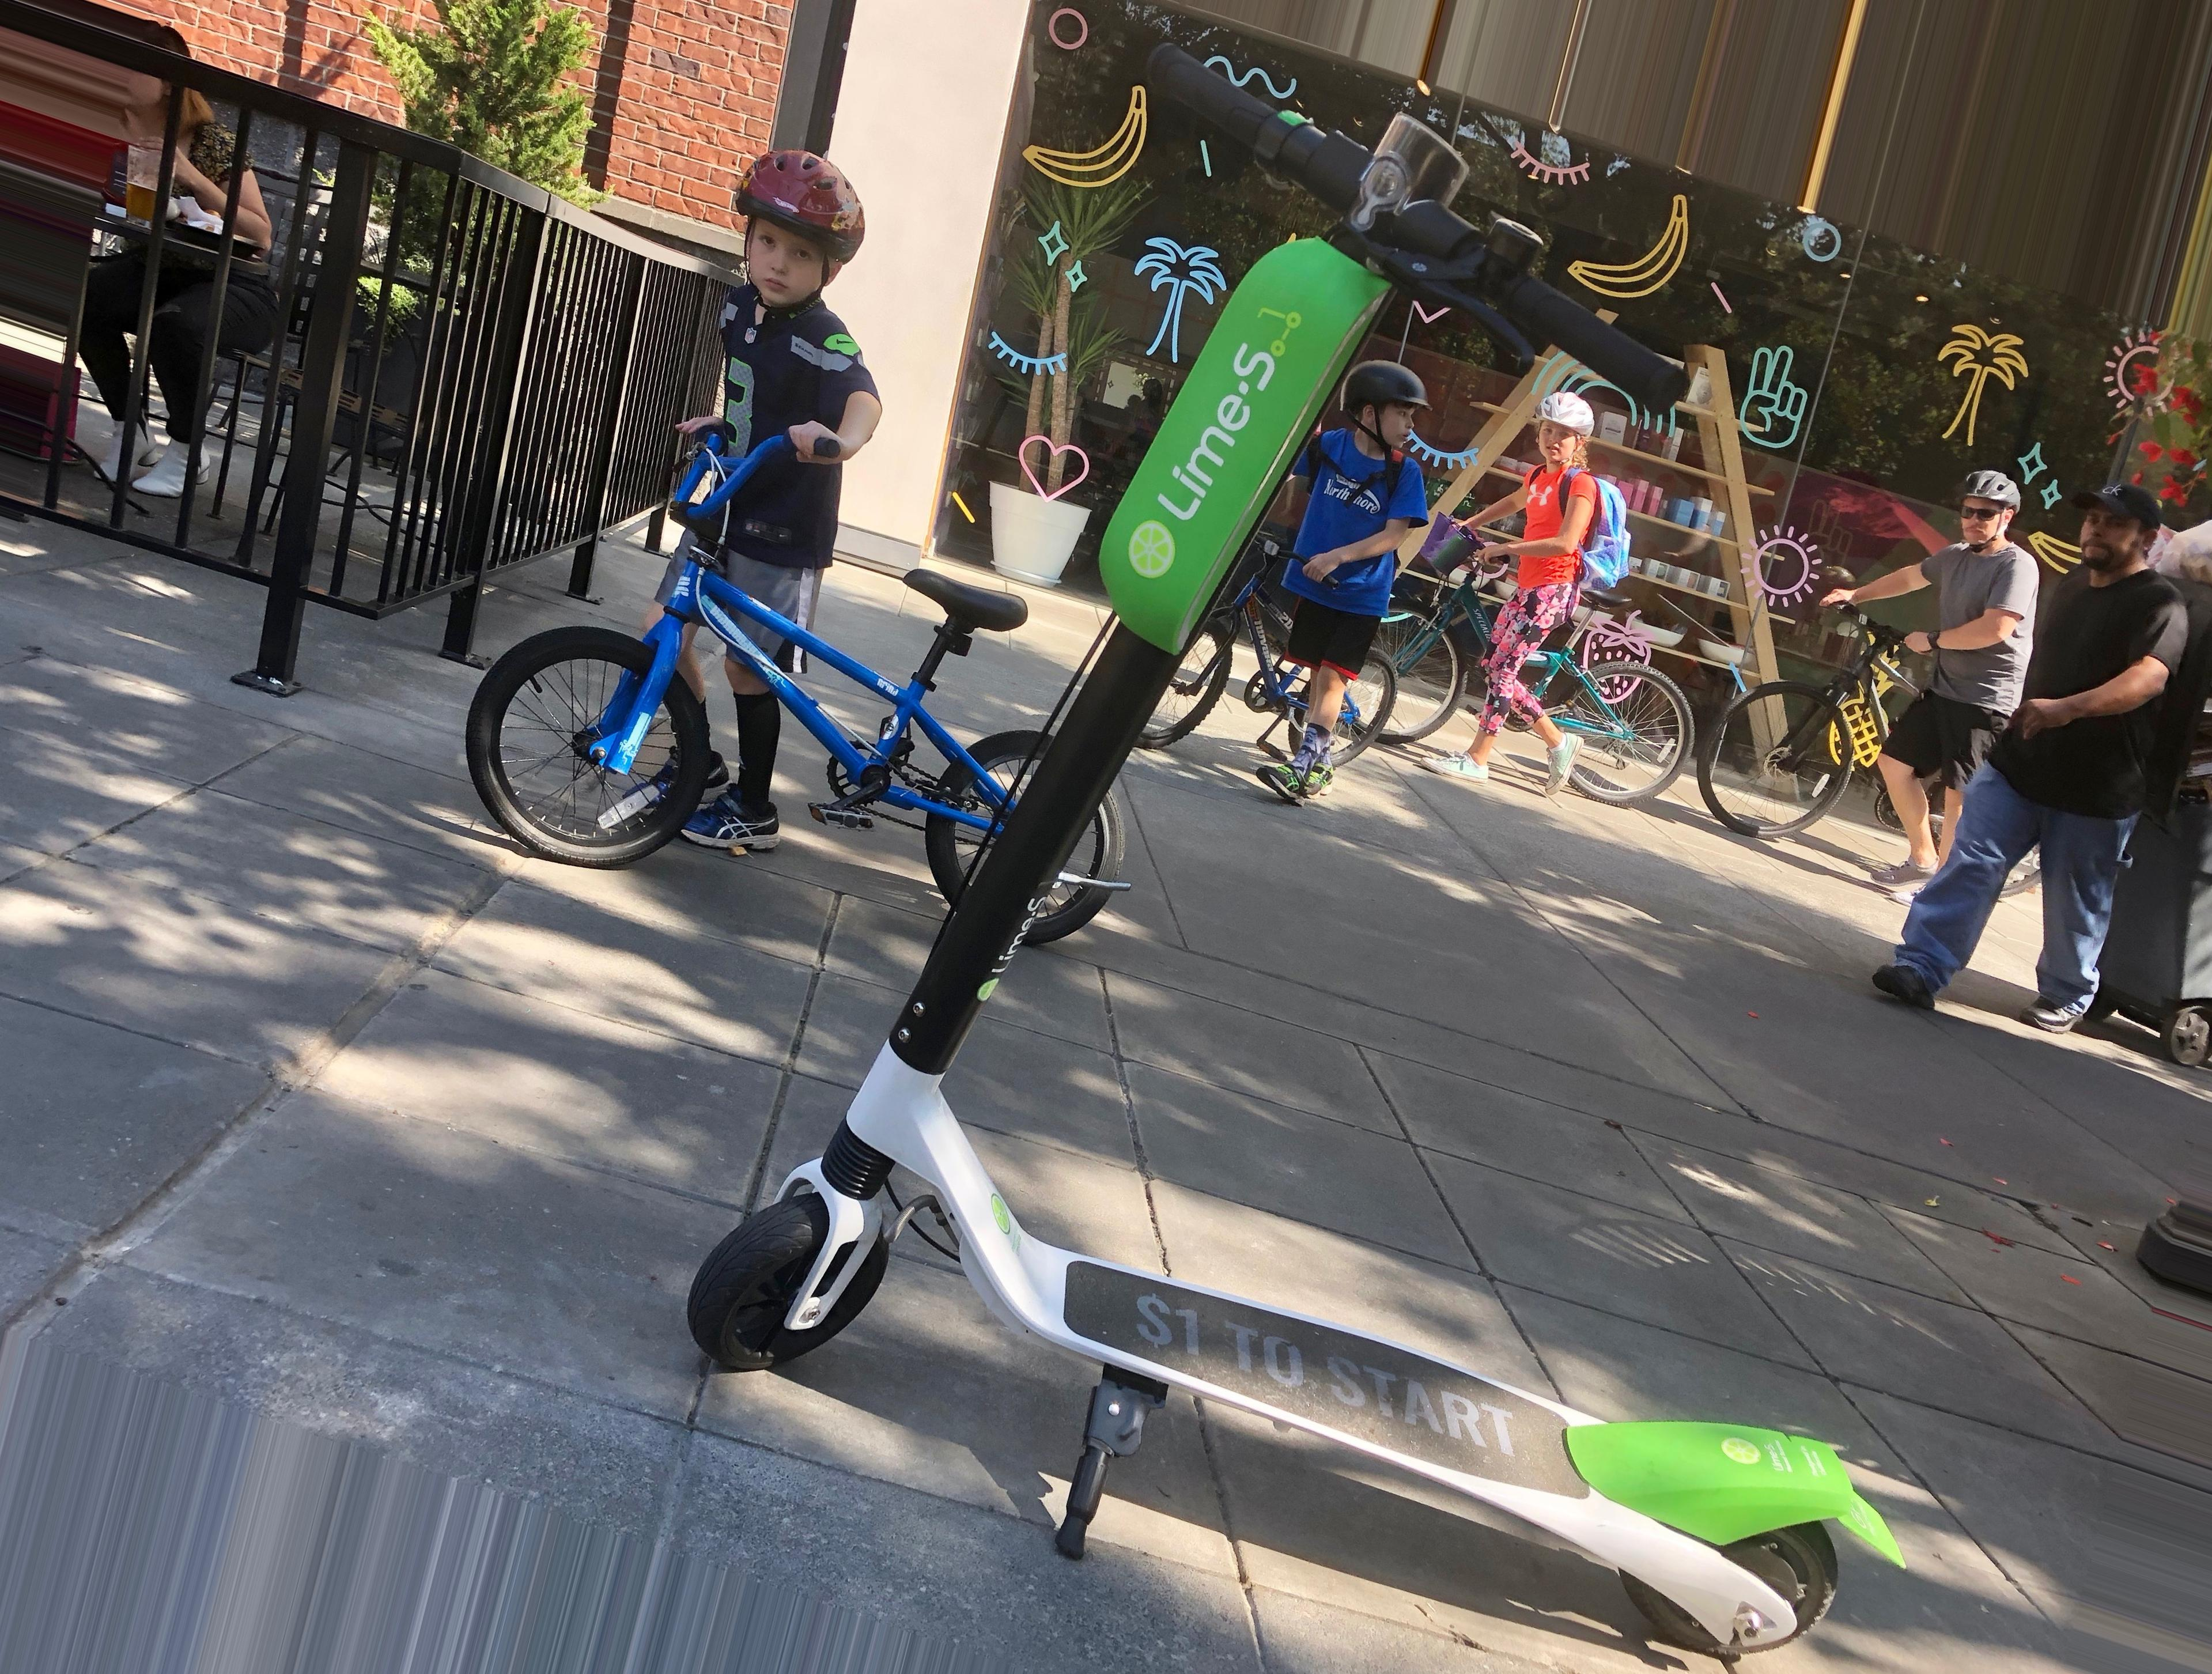scooter: (684, 18, 1908, 1662)
with helmet: (731, 137, 870, 325), (1340, 355, 1437, 459), (1955, 457, 2022, 542), (1533, 392, 1597, 466)
